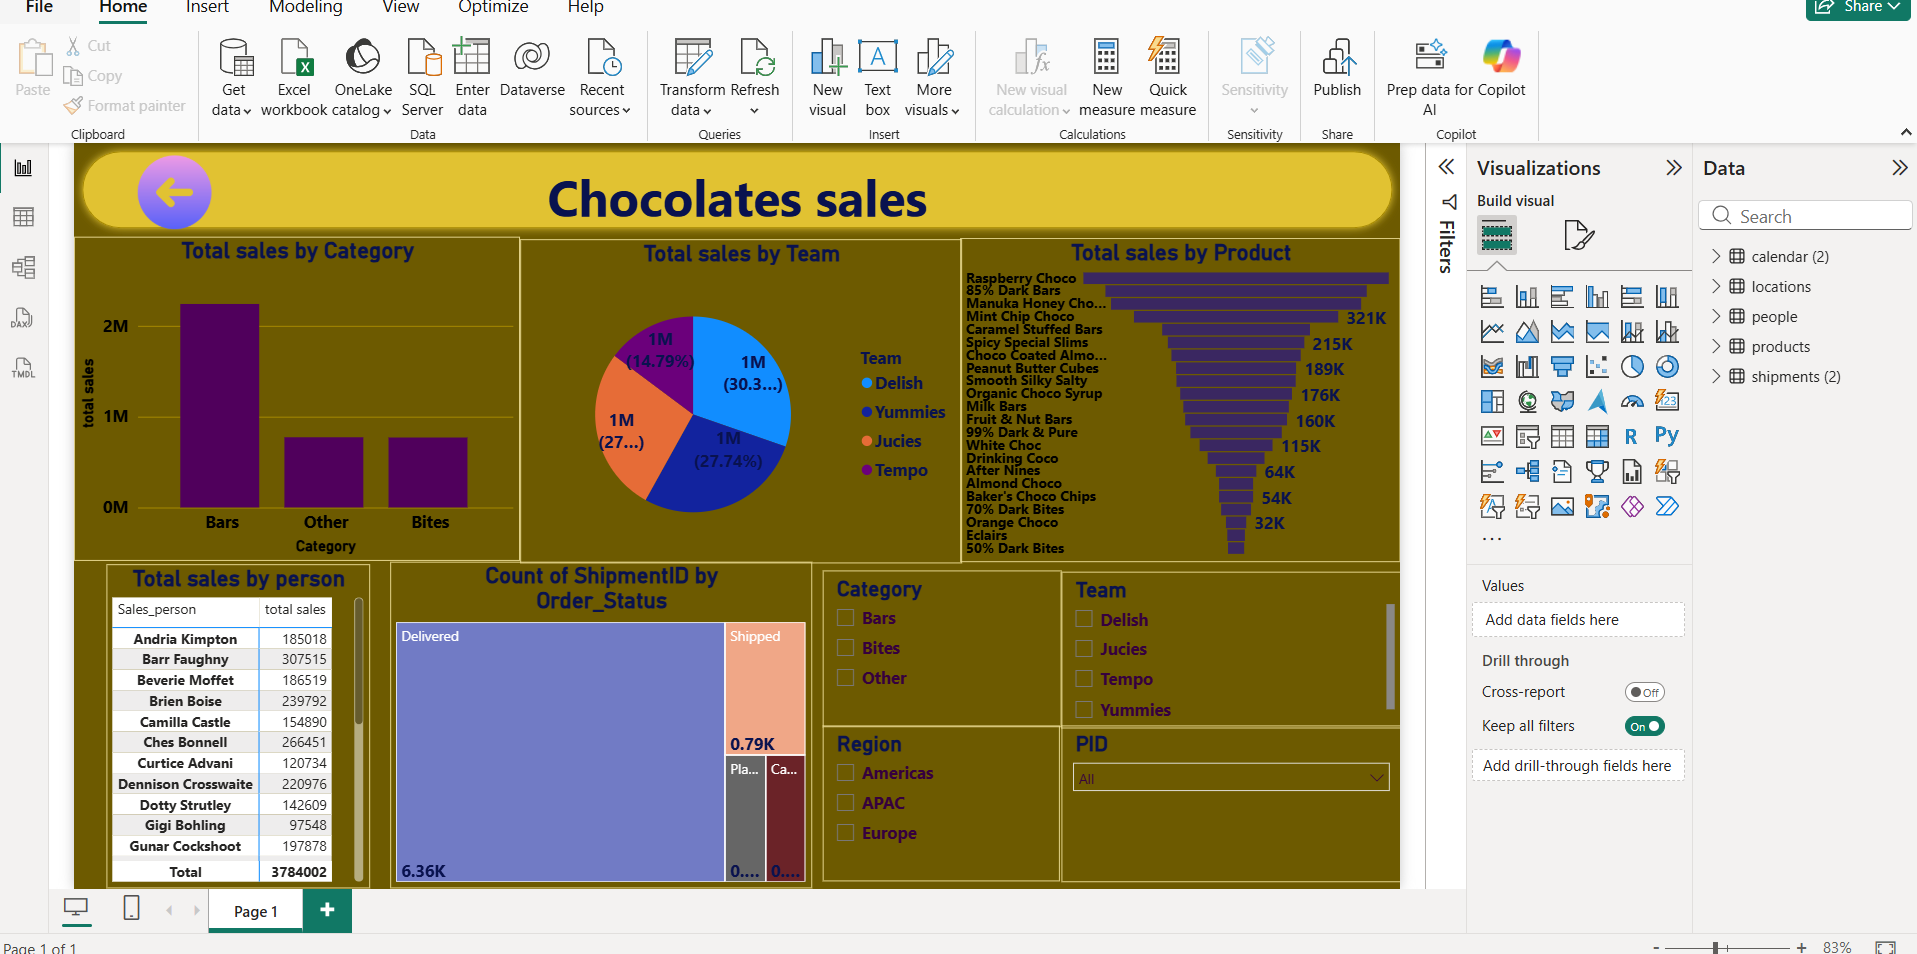

This screenshot's page, from the dashboard's own definition file:
{"tool":"powerbi","page":{"name":"Page 1","canvas":[1280,720],"ordinal":0},"visuals":[{"type":"shape","box":[0,0,1280.6,90.3],"z":0},{"type":"columnChart","title":"Total sales by Category","fields":{"Category":["products.Category"],"Y":["shipments (2).total sales"]},"box":[0,90.3,430.6,312.5],"z":1000},{"type":"pieChart","title":"Total sales by Team","fields":{"Y":["shipments (2).total sales"],"Category":["people.Team"]},"box":[430.6,93.1,426.4,312.5],"z":2000},{"type":"funnel","title":"Total sales by Product","fields":{"Category":["products.Product"],"Y":["shipments (2).total sales"]},"box":[855.6,91.7,425,312.5],"z":3000},{"type":"pivotTable","title":"Total sales by person","fields":{"Values":["shipments (2).total sales"],"Rows":["people.Sales_person"]},"box":[31.9,406.9,254.2,312.5],"z":4000},{"type":"image","box":[61.1,2.8,70.8,90.3],"z":5000},{"type":"slicer","fields":{"Values":["locations.Region"]},"box":[722.2,562.5,229.2,150],"z":6000},{"type":"slicer","fields":{"Values":["products.Category"]},"box":[722.2,412.5,230.6,151.4],"z":7000},{"type":"treemap","fields":{"Group":["shipments (2).Order_Status"],"Values":["CountNonNull(shipments (2).ShipmentID)"]},"box":[305.6,404.2,406.9,315.3],"z":8000},{"type":"slicer","fields":{"Values":["people.Team"]},"box":[952.8,413.9,327.8,151.4],"z":9000},{"type":"slicer","fields":{"Values":["products.PID"]},"box":[952.8,562.5,327.8,151.4],"z":9001}]}

Visuals, with their boxes on the page's 1280x720 design canvas (x1, y1, x2, y2). These are canvas units, not pixel positions in the 1917x954 screenshot, which may show the page scaled, cropped or inside an application window:
shape: [0, 0, 1281, 90]
"Total sales by Category" columnChart: [0, 90, 431, 403]
"Total sales by Team" pieChart: [431, 93, 857, 406]
"Total sales by Product" funnel: [856, 92, 1281, 404]
"Total sales by person" pivotTable: [32, 407, 286, 719]
image: [61, 3, 132, 93]
slicer - locations.Region: [722, 562, 951, 712]
slicer - products.Category: [722, 412, 953, 564]
treemap - shipments (2).Order_Status x CountNonNull(shipments (2).ShipmentID): [306, 404, 712, 720]
slicer - people.Team: [953, 414, 1281, 565]
slicer - products.PID: [953, 562, 1281, 714]
